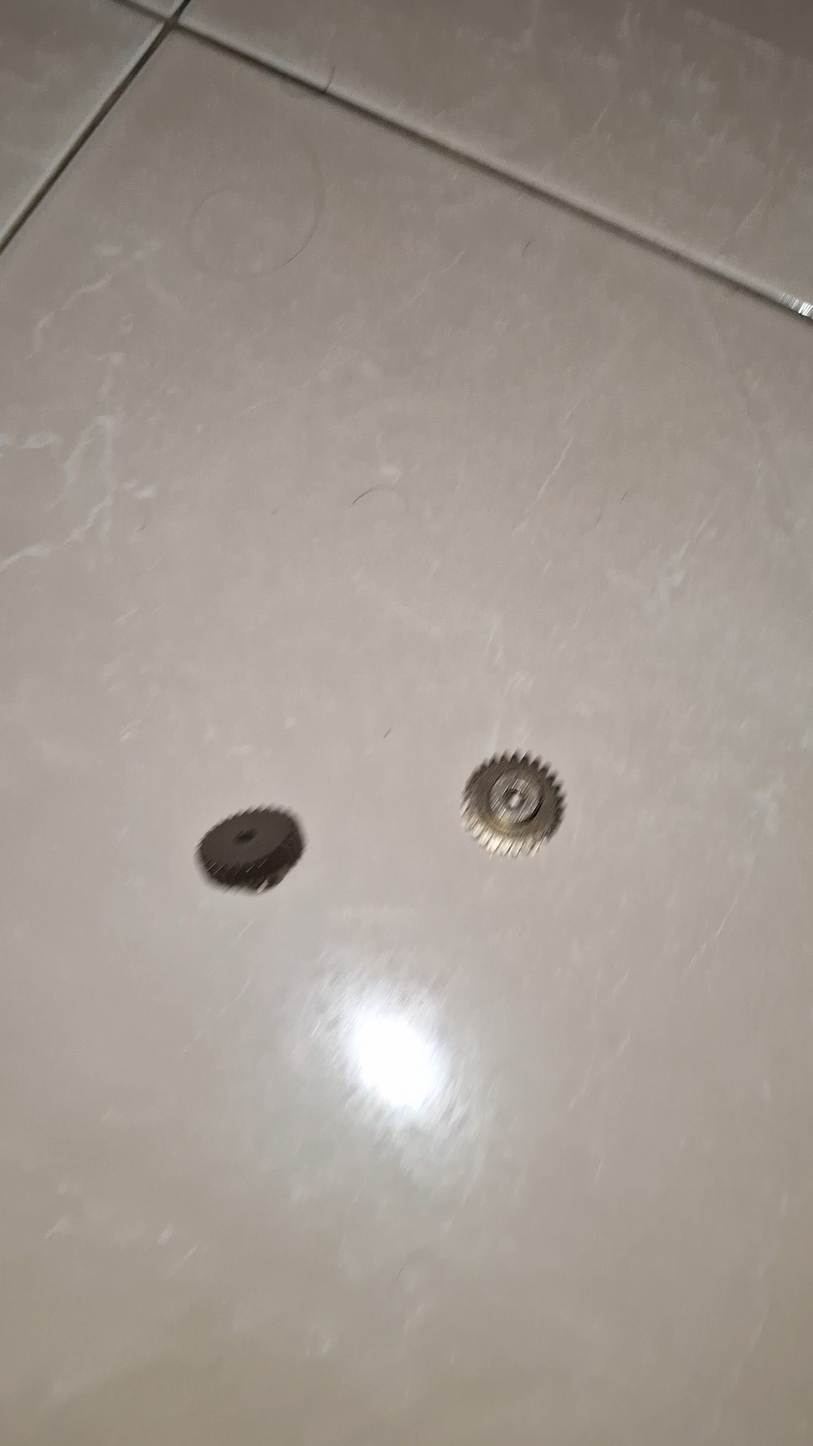spur gear: (481, 748, 577, 844), (231, 800, 332, 880)
